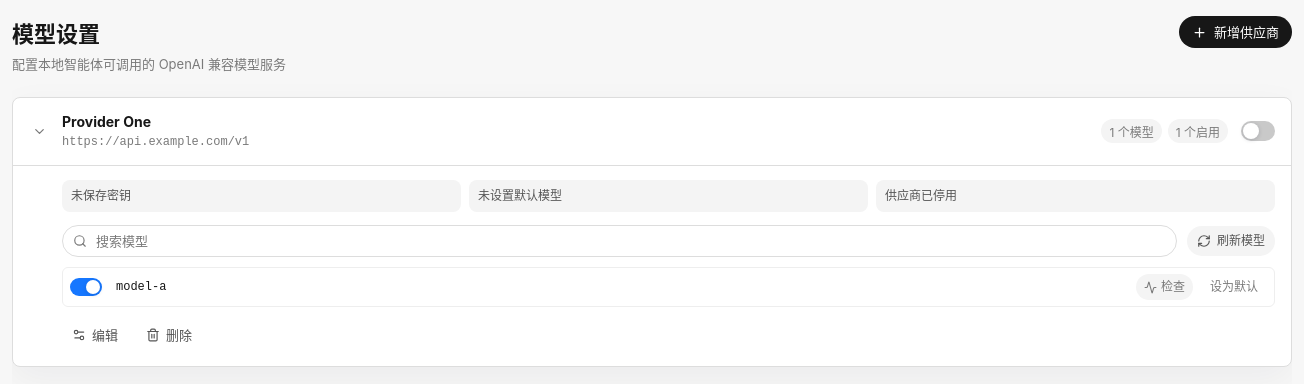
Test: ModelSettingsPage › supports collapsed provider cards
The width and height of the screenshot is (1304, 384).
Check: the text "model-a" is shown, box 116,280 -> 166,294
Click the button "Provider One https://api.example.com/v1 1 个模型 1 个启用". click: (106, 122)
box: 13,98 -> 1291,164
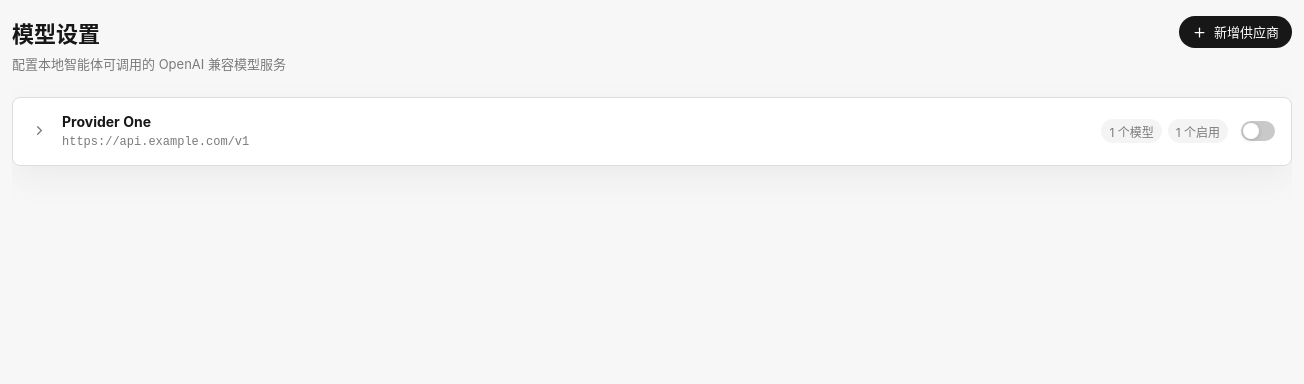
Check: the text "model-a" is gone
Check: the button "Provider One https://api.example.com/v1 1 个模型 1 个启用" is collapsed, box 13,98 -> 1291,164
